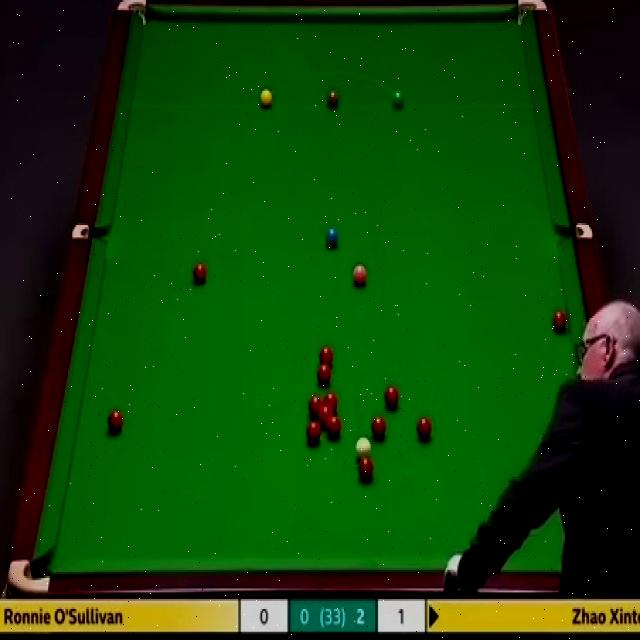blue-ball: (324, 226, 339, 249)
brown-ball: (327, 88, 339, 109)
green-ball: (391, 88, 404, 109)
pink-ball: (350, 264, 370, 293)
red-ball: (356, 455, 375, 482), (383, 384, 400, 410), (188, 262, 206, 286), (106, 409, 123, 433), (416, 418, 433, 442), (370, 416, 386, 441), (552, 310, 568, 334), (326, 417, 341, 440), (317, 364, 332, 387), (308, 398, 324, 419), (306, 422, 321, 444), (322, 392, 338, 412), (317, 349, 333, 368), (319, 406, 332, 425)
white-ball: (354, 438, 372, 464)
yellow-ball: (260, 89, 273, 109)
